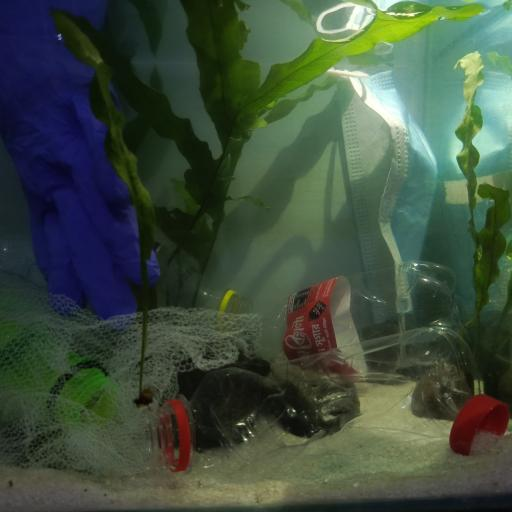bottle_cap: (450, 390, 508, 458)
glove: (0, 11, 163, 323)
mask: (337, 56, 439, 321)
net: (0, 291, 267, 482)
plastic_bottle: (150, 322, 482, 476), (249, 263, 463, 377), (2, 305, 121, 432), (193, 280, 248, 318)
